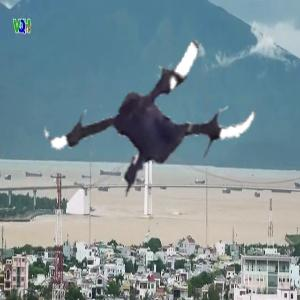drone: (46, 2, 262, 218)
